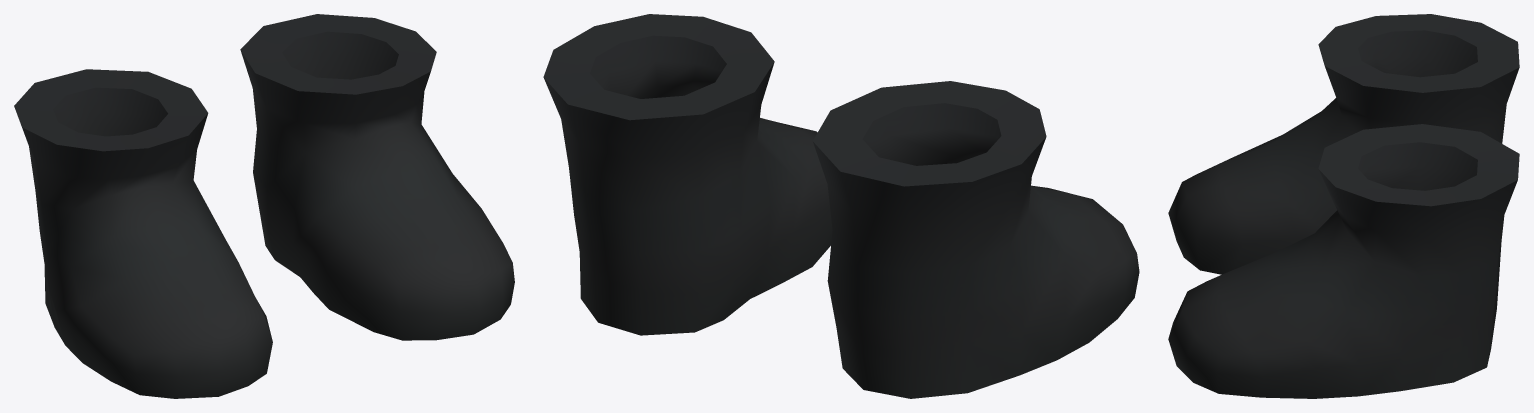
The model's file is Costume_4_04.glb.
The picture shows the model from 3 angles, left to right: view 1: azimuth 30°, elevation 25°; view 2: azimuth 150°, elevation 25°; view 3: azimuth 270°, elevation 25°; orthographic projection. The views are drawn at different scales.
Parts seen in each view (by area): view 1: Costume_4_04; view 2: Costume_4_04; view 3: Costume_4_04.
Part boxes in pixels (x1=…): Costume_4_04: x1=14, y1=14, x2=514, y2=398; Costume_4_04: x1=543, y1=14, x2=1139, y2=398; Costume_4_04: x1=1168, y1=14, x2=1519, y2=398.
Size of the model in its own units: 0.2422 by 0.1116 by 0.1803.
1 material, 1 textured.
